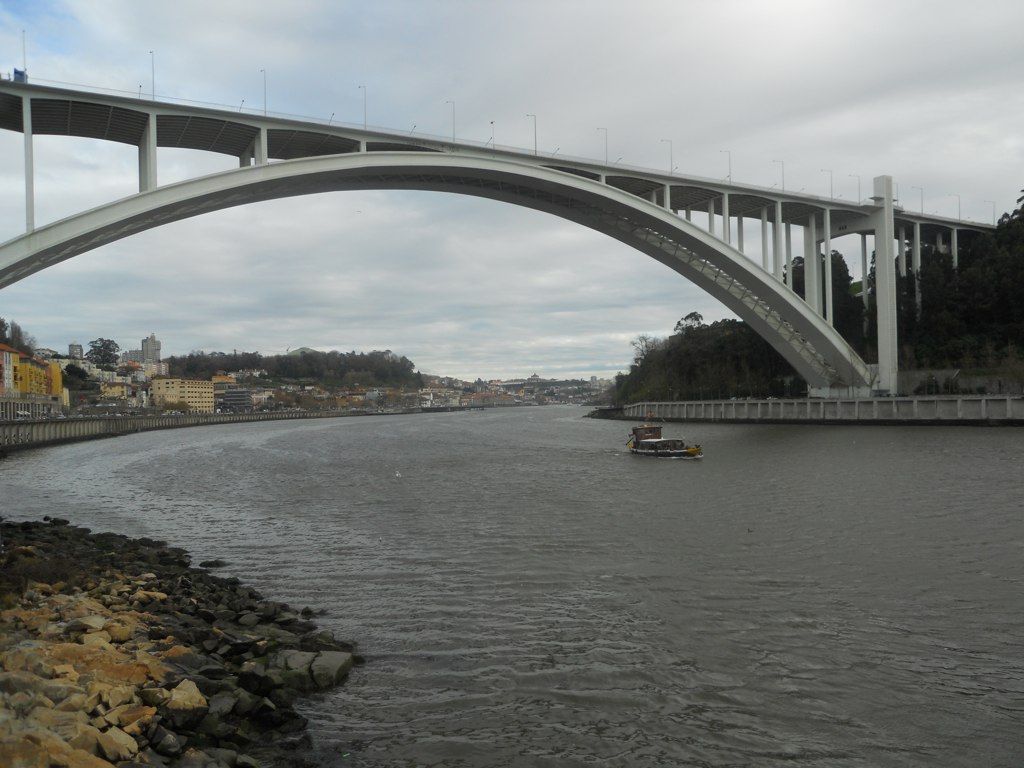arrabida: (0, 75, 1023, 399)
